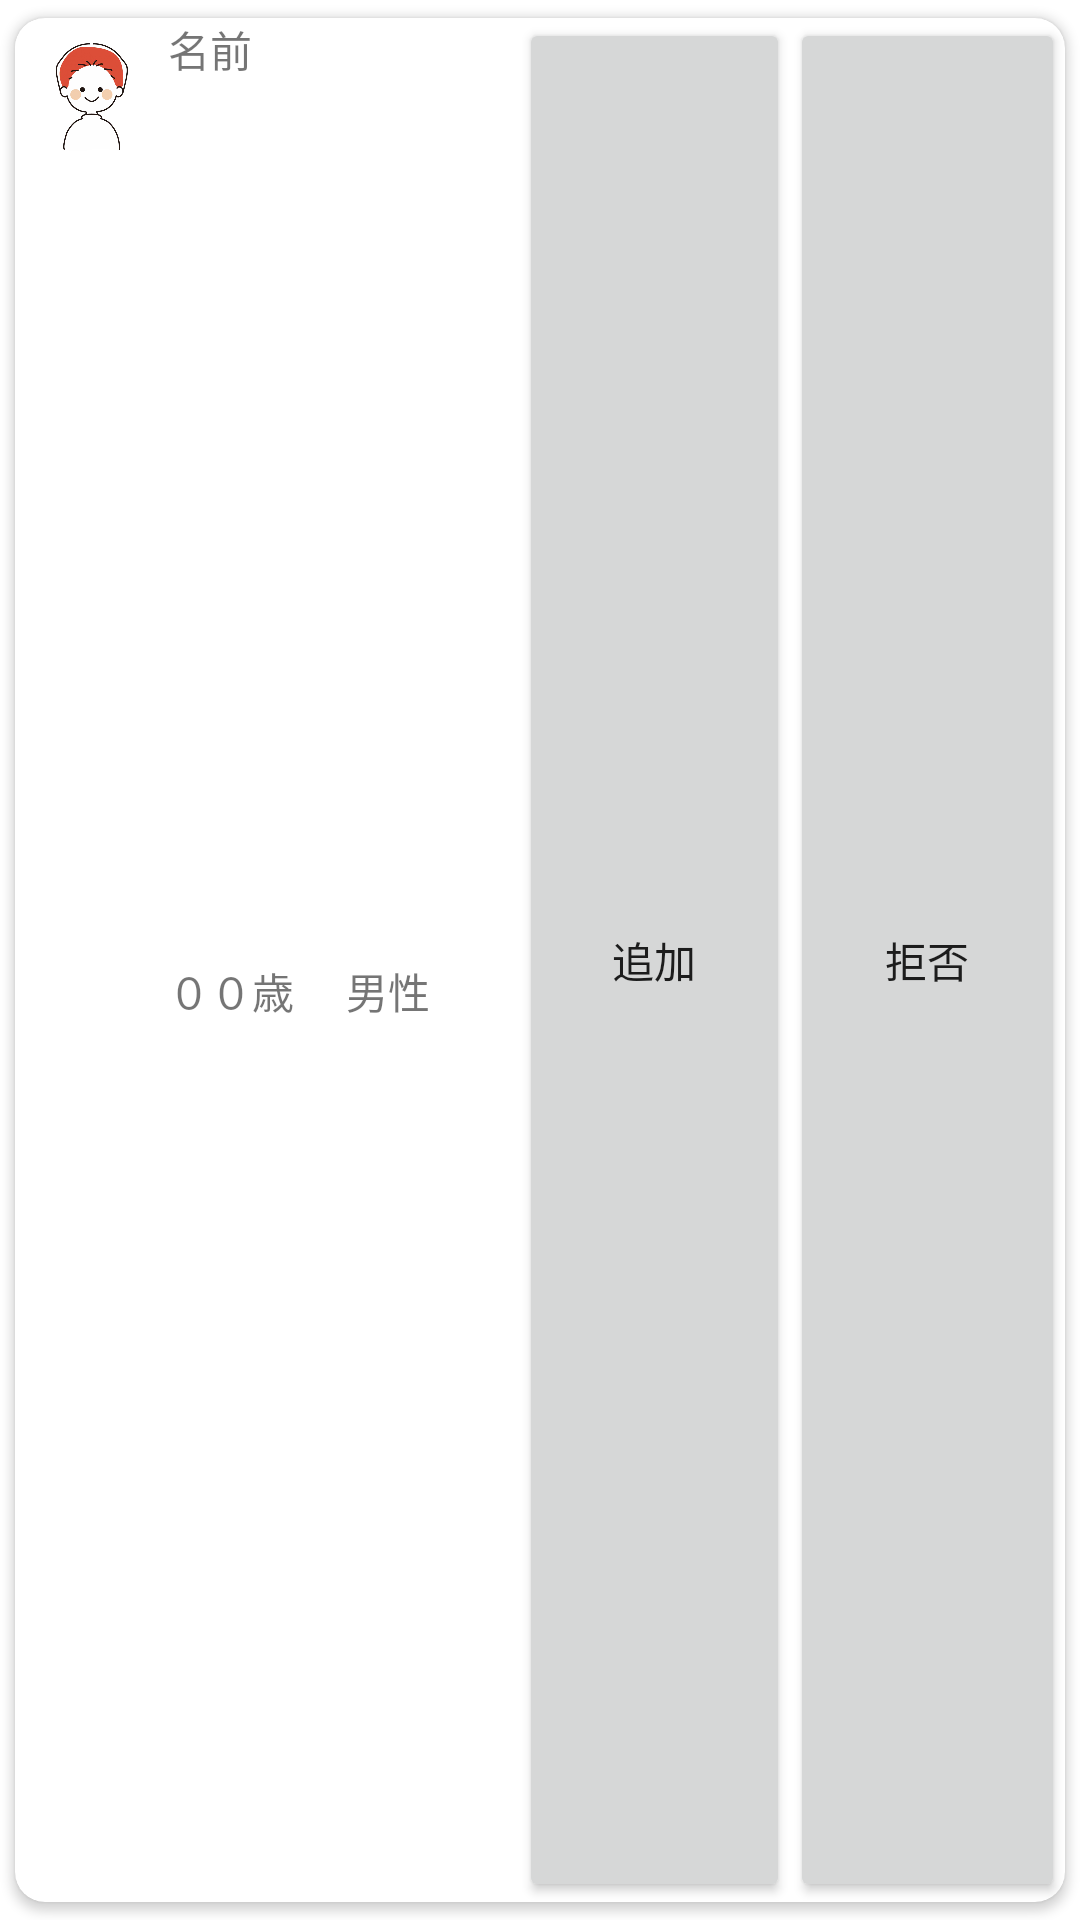

Point at icon controls on the screen. Image size 1080w x 1920h, points as [x,y].
men: [92,96]
